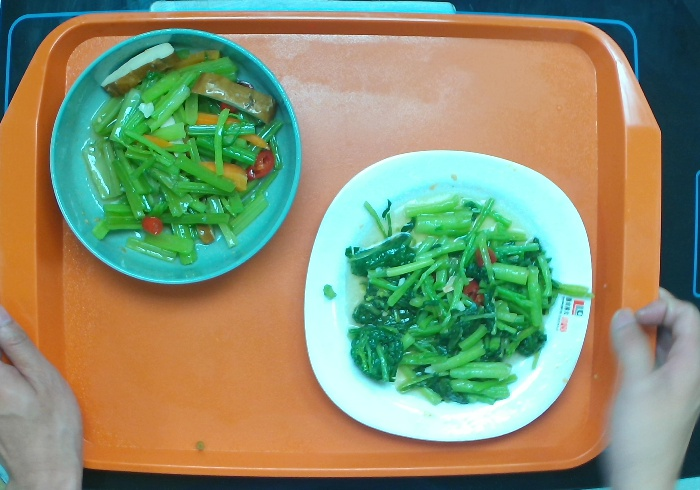ZNLD-Qing_Hua_Yuan_Wan: (49, 27, 302, 287)
ZNLD-Yuan_Jiao_Pan: (303, 146, 595, 445)
